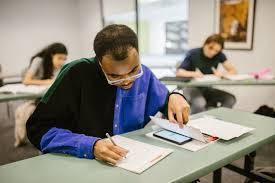good: (27, 22, 194, 168)
